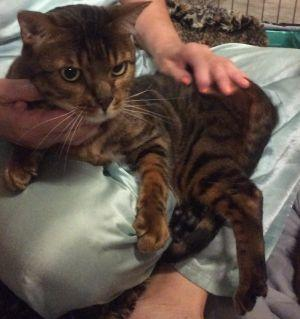bengal: (6, 1, 151, 132)
